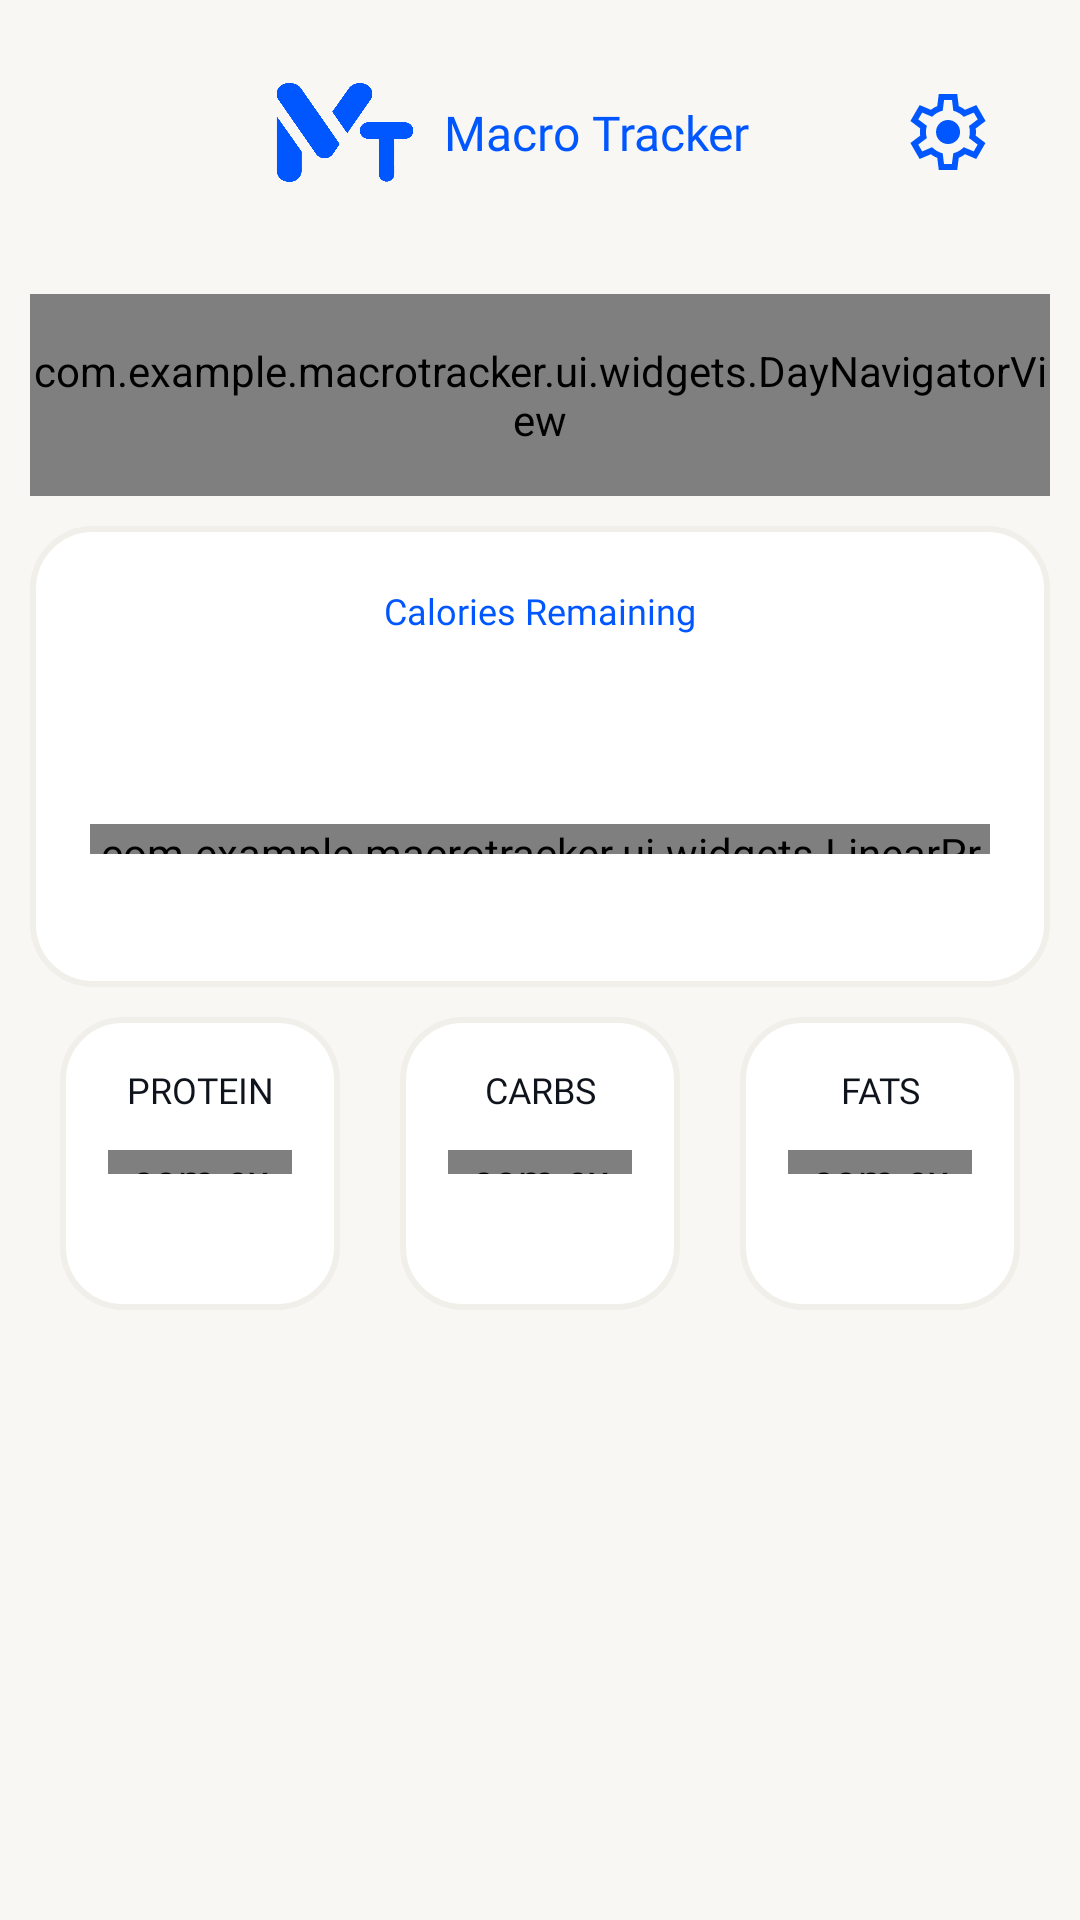

Where icons sit on this 1080 × 1920 app screen, as box(x1, y1, x2, y2):
Account Settings: box(910, 94, 986, 170)
